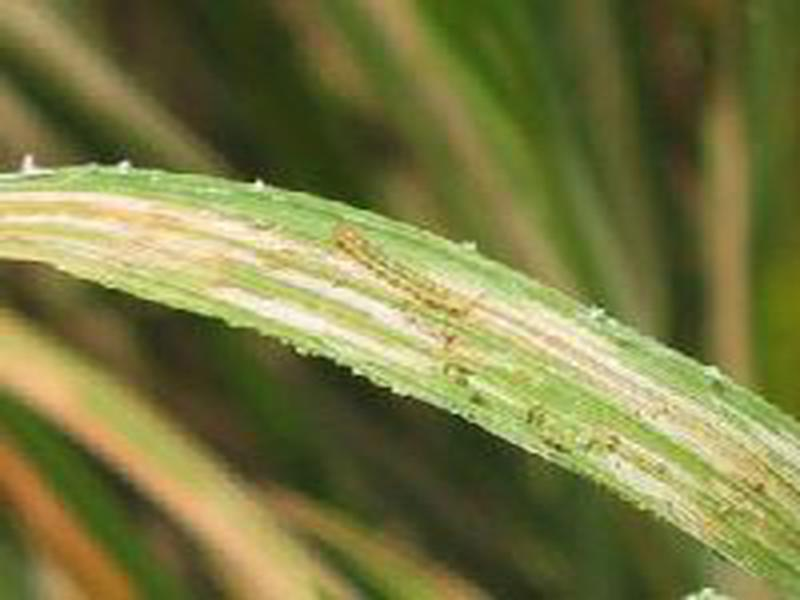Leaf_folder: (328, 201, 491, 324)
